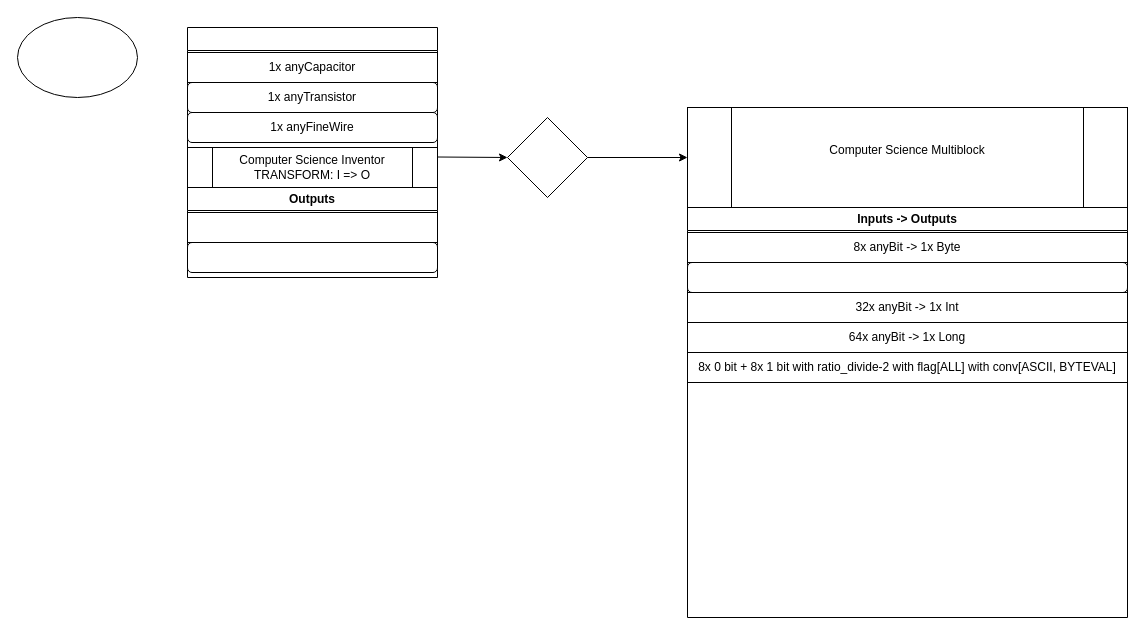
Some shapes in this 1145 by 635 pixel diagram are drawn without their labels. The box of each missing label's shape, as (x1, y1, x2, y2) in pixels:
16x anyBit -> 1x Short: (686, 262, 1128, 292)
1x 0 bit: (186, 212, 438, 242)
1x 1 bit: (186, 242, 438, 272)
Binary Branch: (506, 116, 588, 198)
Data Science Flowchart General: (16, 16, 138, 98)
Inputs: (186, 26, 438, 148)
